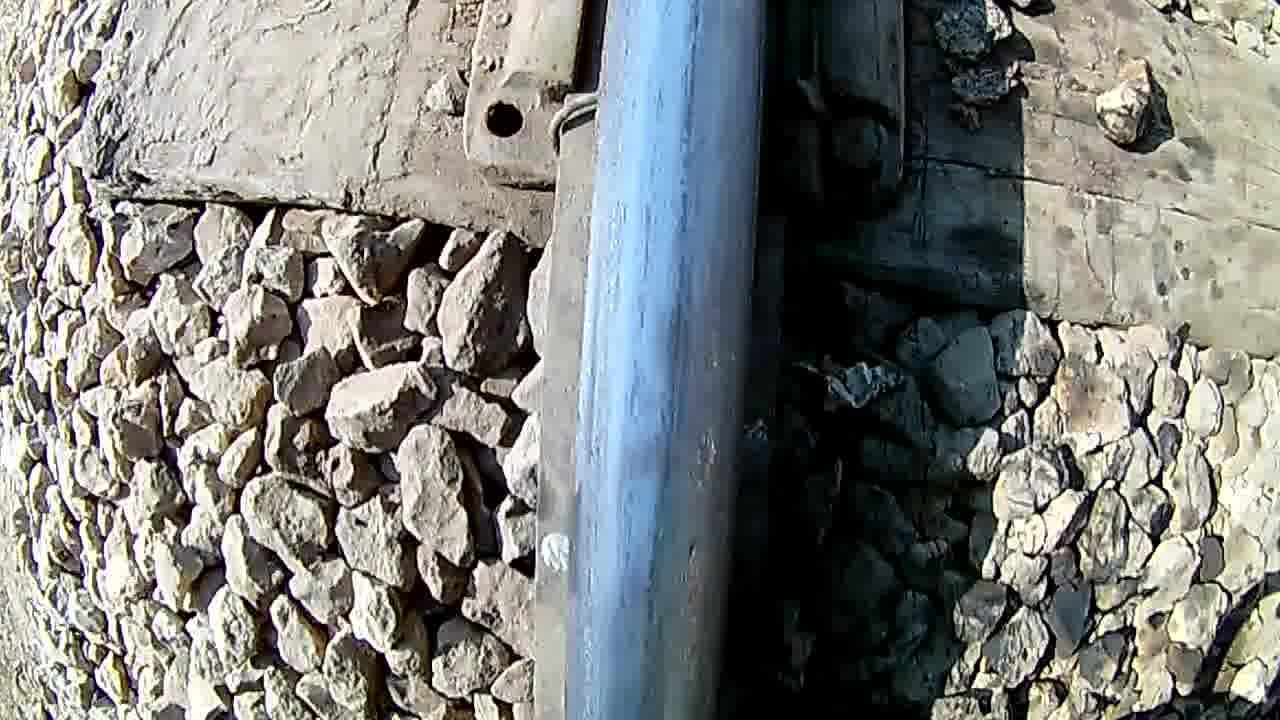crack: (571, 1, 767, 720)
